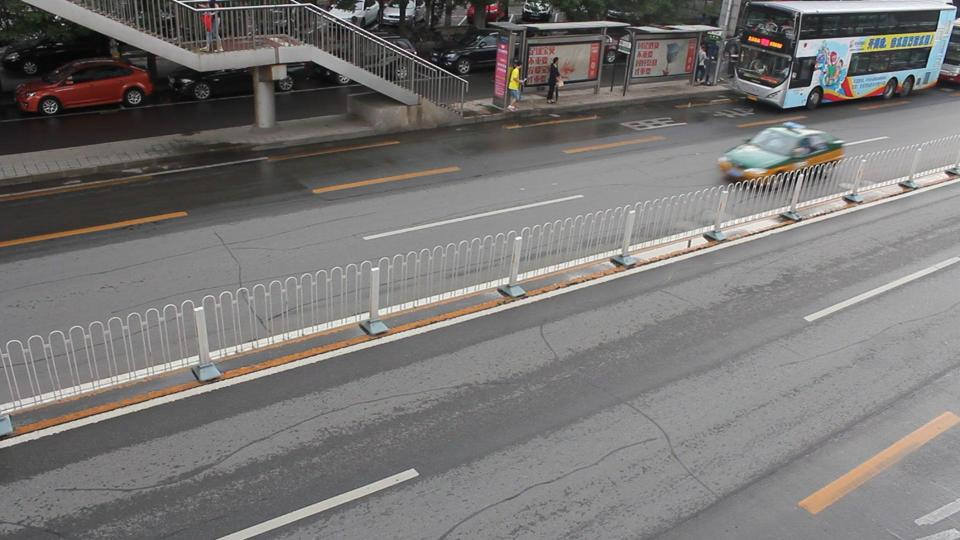Bus: (732, 1, 960, 107)
Car: (716, 123, 841, 185), (20, 60, 152, 116), (173, 45, 305, 99), (324, 33, 419, 87), (430, 30, 533, 76)
